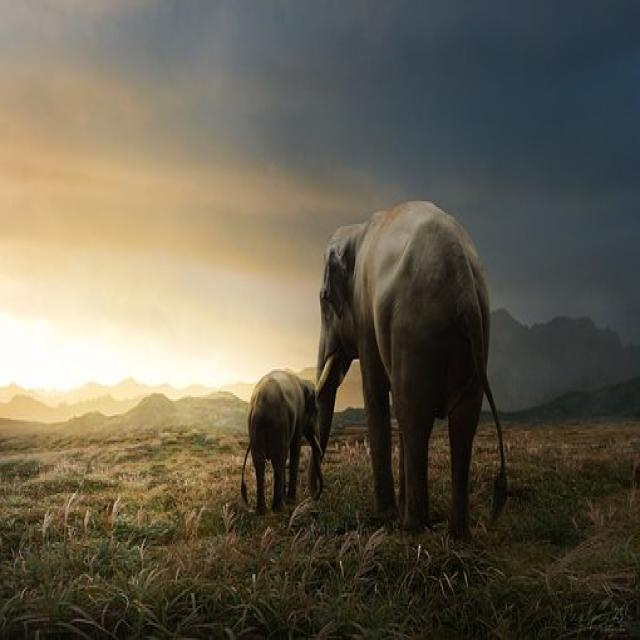Elephant: (301, 174, 523, 547), (226, 350, 322, 522)
